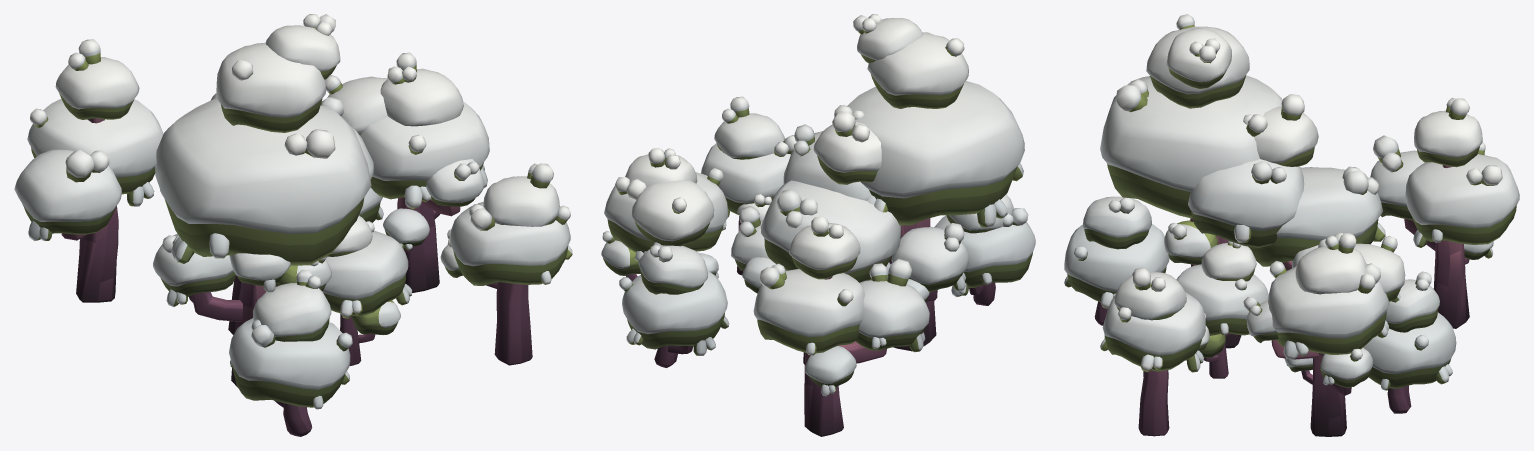
File: grassland_tree_group_col1_snow.fbx
The picture shows the model from 3 angles, left to right: view 1: azimuth 30°, elevation 25°; view 2: azimuth 150°, elevation 25°; view 3: azimuth 270°, elevation 25°; orthographic projection. The views are drawn at different scales.
Parts seen in each view (by area): view 1: grassland_tree_group_col1_snow; view 2: grassland_tree_group_col1_snow; view 3: grassland_tree_group_col1_snow.
Part boxes in pixels (x1,y1,x2,y2): grassland_tree_group_col1_snow: (14, 14, 572, 436); grassland_tree_group_col1_snow: (601, 14, 1035, 436); grassland_tree_group_col1_snow: (1064, 14, 1519, 436).
Bounding box in the file's own units: 1732 × 1490 × 1919.
